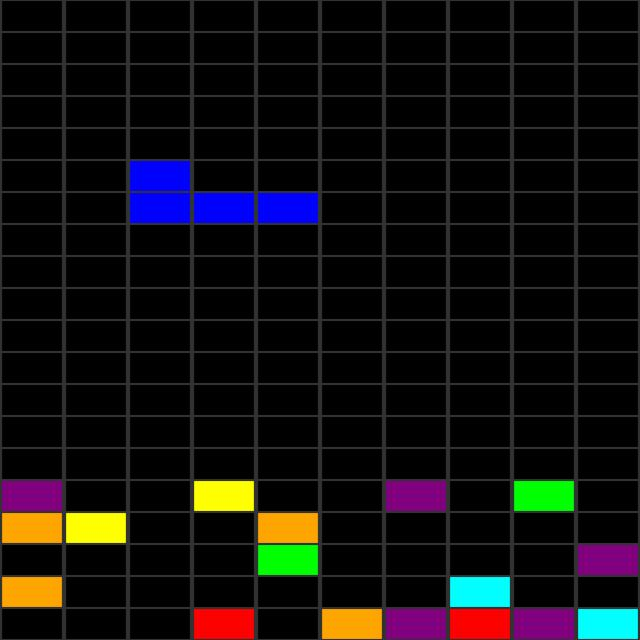Tetrimino_S: (128, 160, 320, 223)
